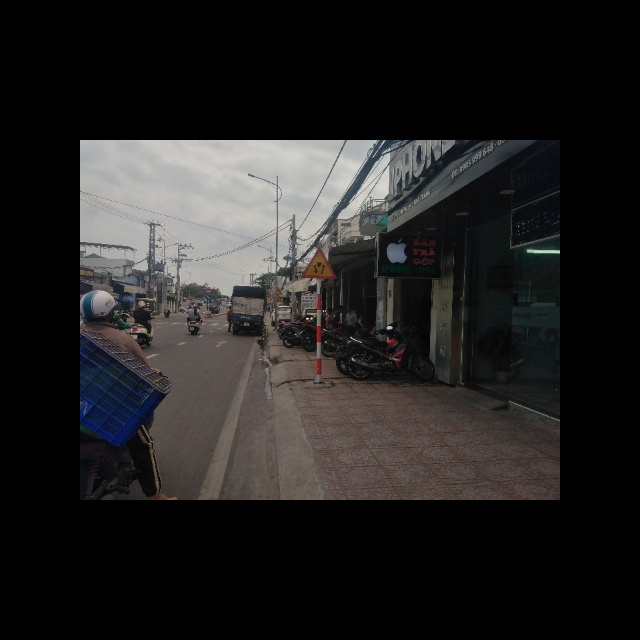Đường đôi: (301, 245, 338, 278)
